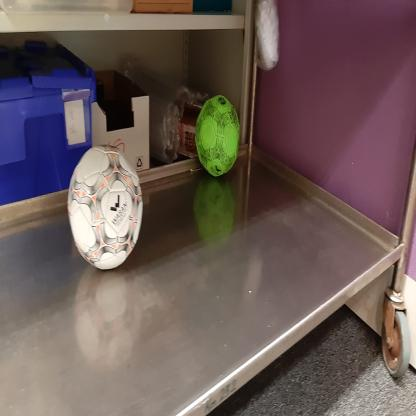ball: (68, 145, 144, 270), (195, 95, 240, 176)
